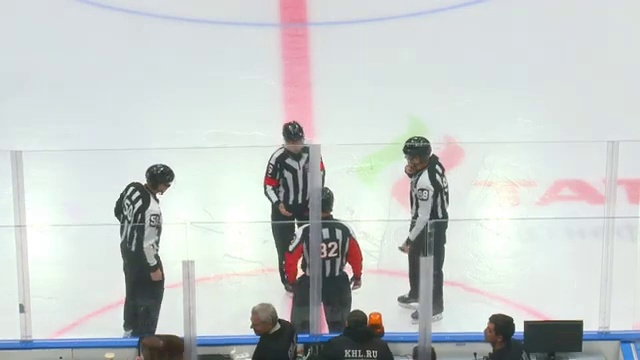referee: (107, 151, 186, 336), (286, 188, 373, 329), (396, 135, 452, 330), (271, 116, 329, 281)
